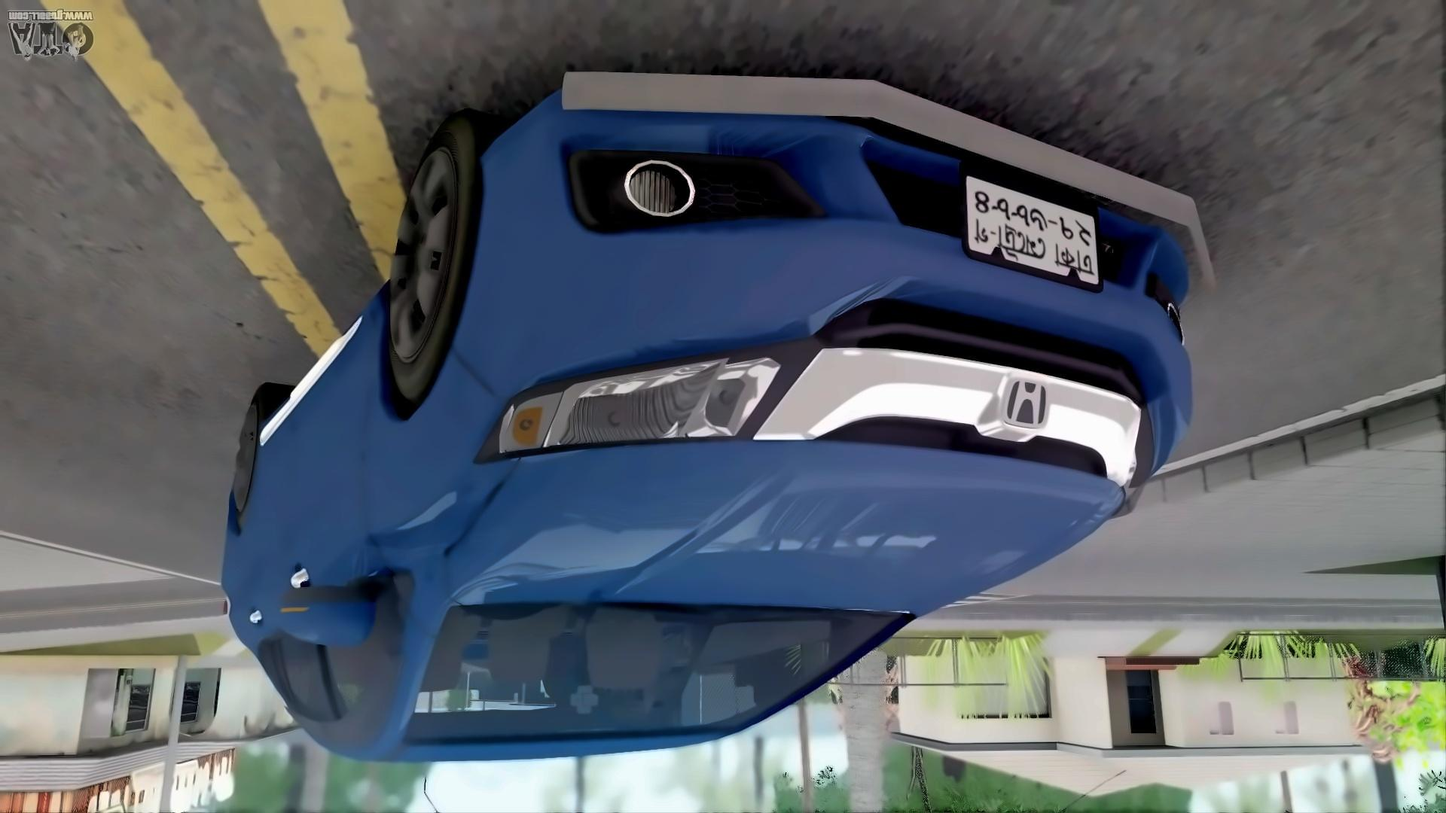Car hood: (443, 446, 1127, 620)
Fender - -F-L-: (349, 301, 535, 569)
Fender - -R-L-: (209, 525, 325, 678)
Front bumper: (482, 63, 1224, 380)
Headlight - -L-: (475, 327, 826, 464)
Passenger-s door - -F-L-: (290, 334, 399, 768)
Passenger-s door - -R-L-: (247, 405, 286, 715)
Rear bumper: (199, 482, 263, 649)
Side bumper - -L-: (249, 291, 379, 457)
Side mirror - -L-: (268, 580, 379, 658)
